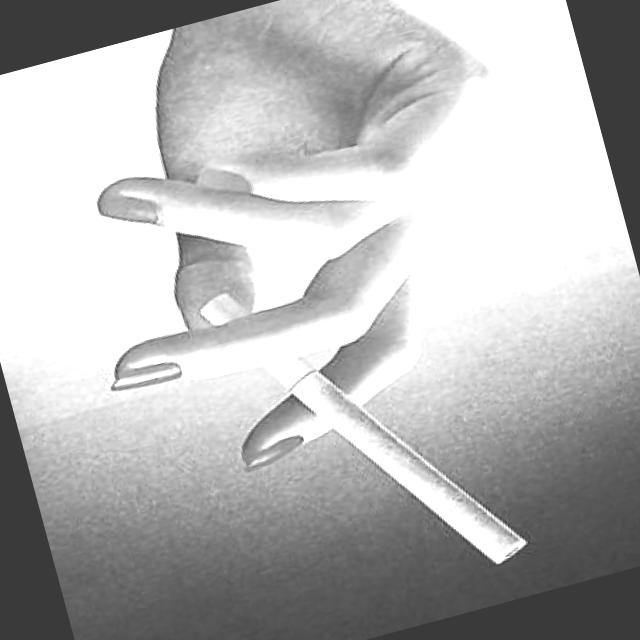smoke: (187, 215, 544, 640)
